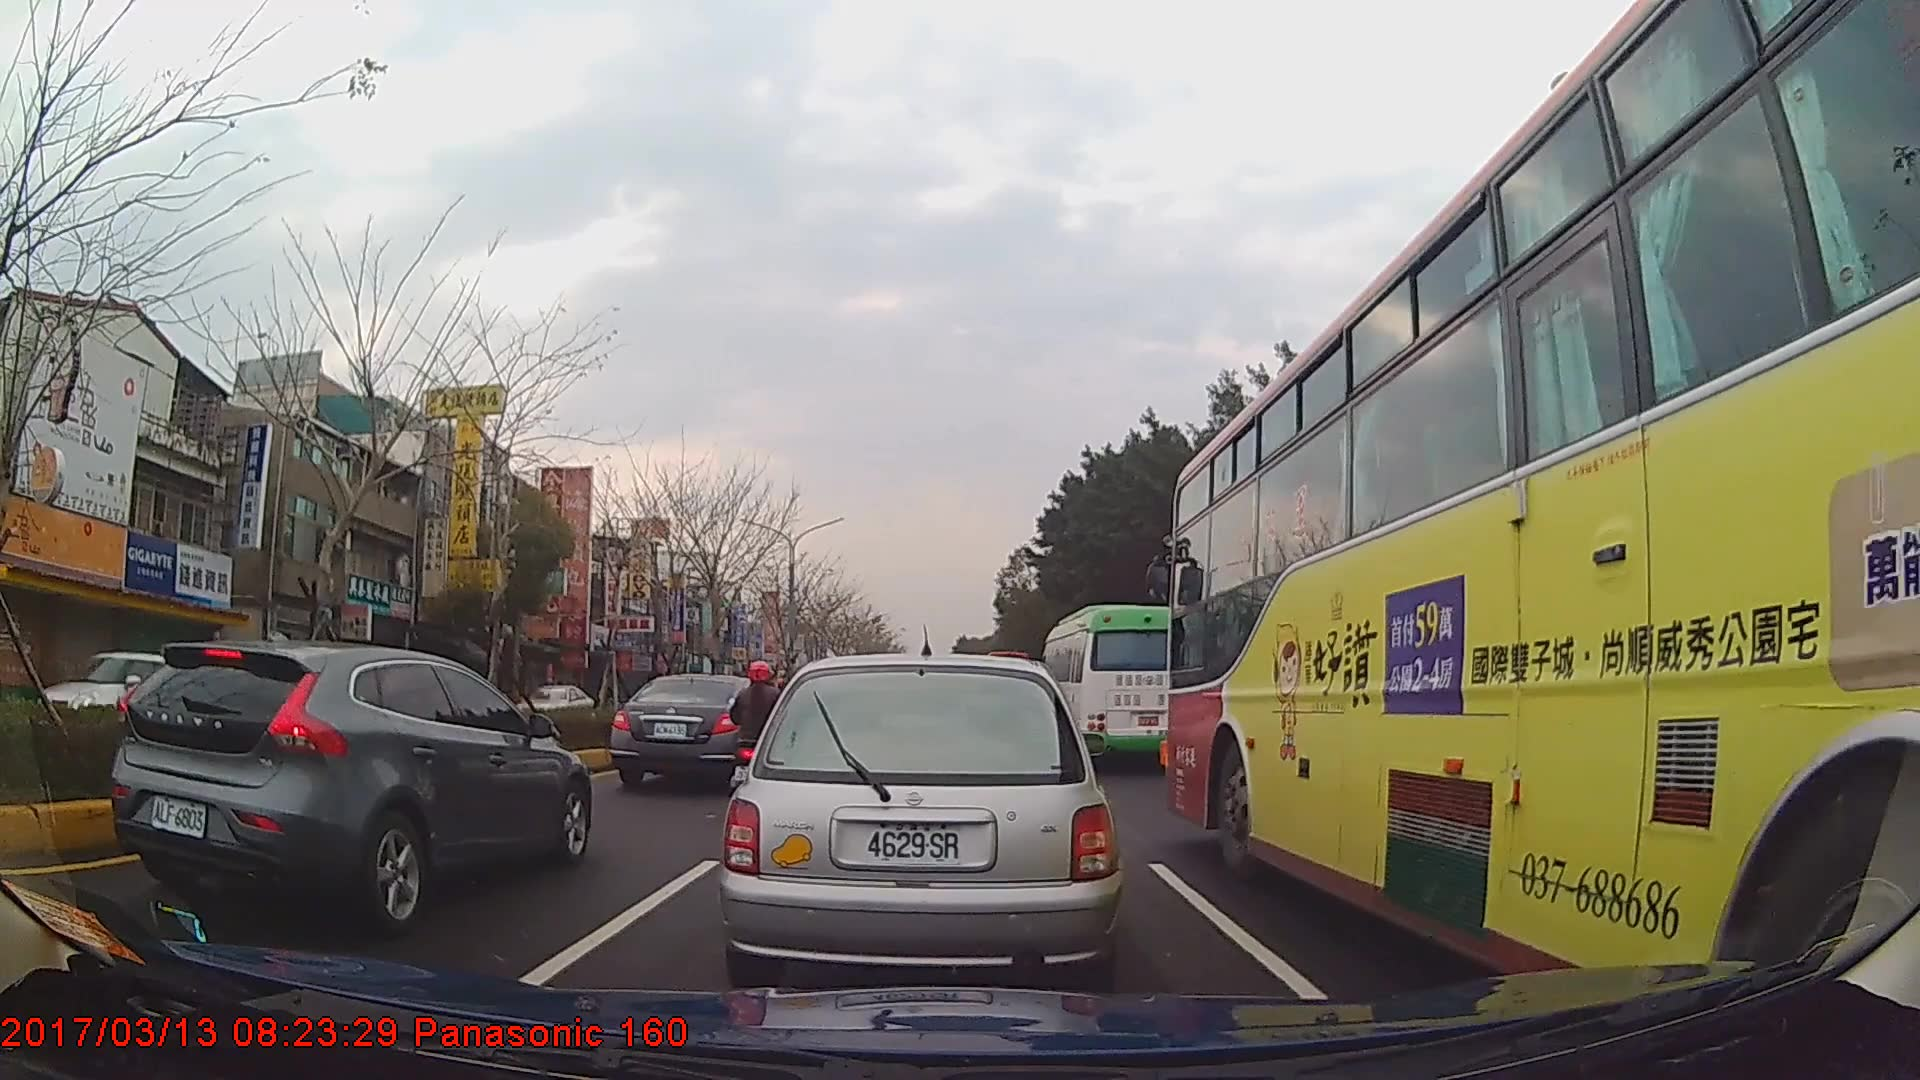rider: (730, 660, 795, 810)
vehicle: (1167, 0, 1920, 1025), (105, 637, 588, 929), (720, 648, 1120, 990), (1041, 604, 1187, 768), (609, 671, 774, 791), (37, 648, 202, 751), (513, 681, 594, 726)
